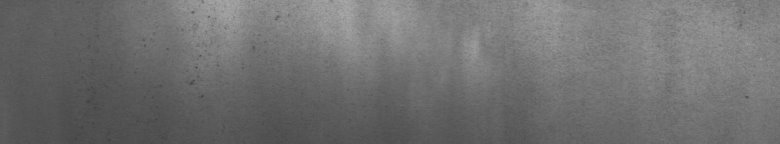ib: (186, 11, 281, 98)
